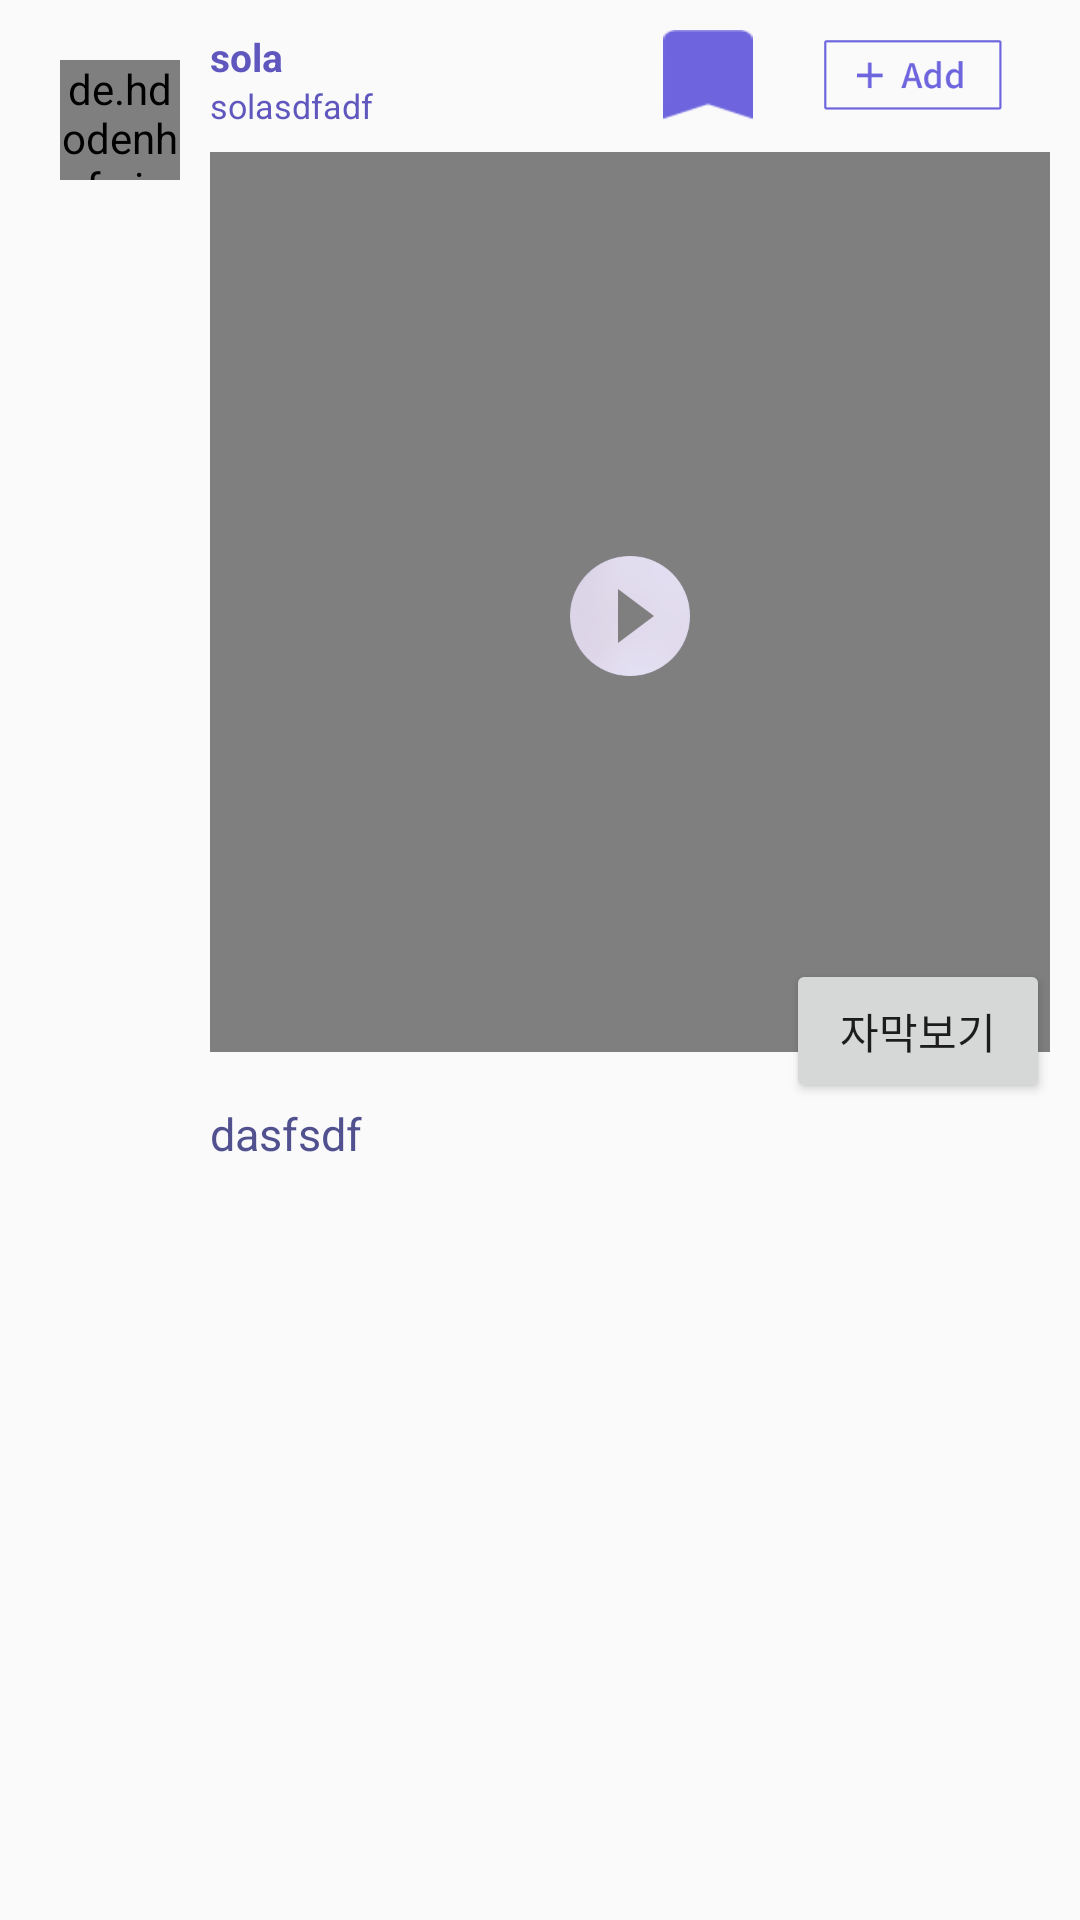

Screen size 1080 × 1920. Icon name, then its center in pixels as point (x, y):
bookmark pp press: point (708, 74)
